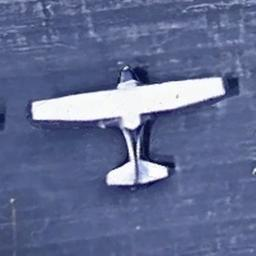Airplane: (27, 61, 240, 188)
